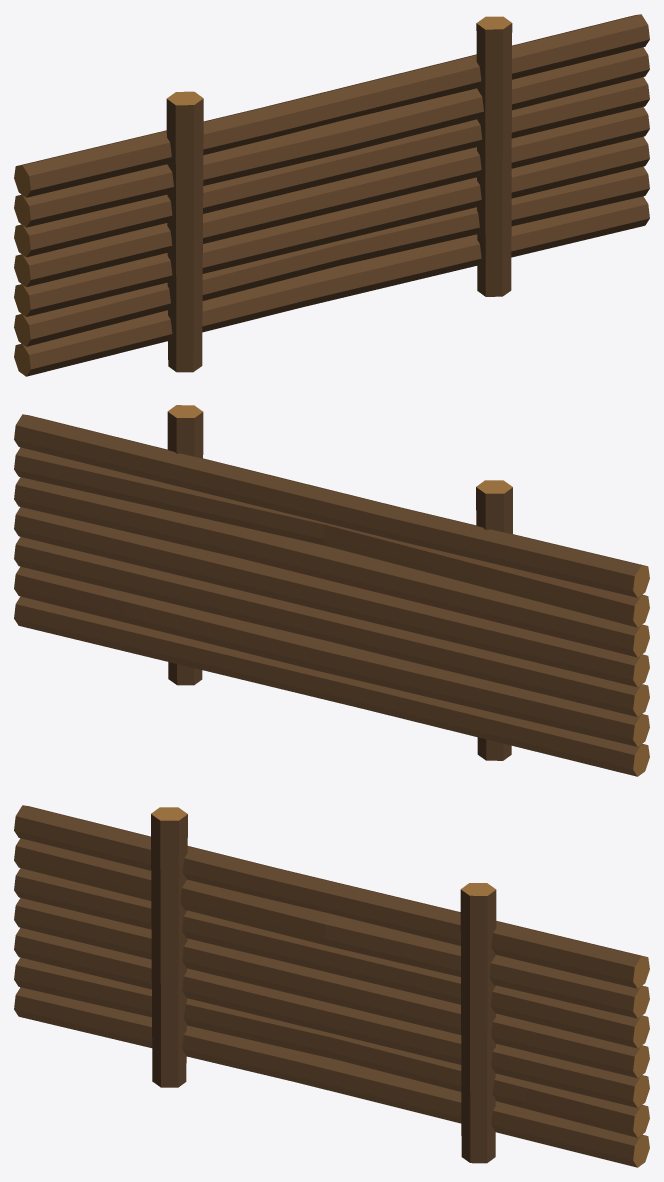
Rendered from ww2_trenches-wood.fbx.
3 renders of one model, top to bottom at view 1: azimuth 30°, elevation 25°; view 2: azimuth 150°, elevation 25°; view 3: azimuth 330°, elevation 25°, orthographic.
Parts seen in each view (by area): view 1: ww2_trenches_wood; view 2: ww2_trenches_wood; view 3: ww2_trenches_wood.
Part boxes in pixels (x1,y1,x2,y2): ww2_trenches_wood: [14, 14, 649, 376]; ww2_trenches_wood: [14, 405, 649, 776]; ww2_trenches_wood: [14, 805, 649, 1167].
Size of the model in its own units: 200 by 82.62 by 16.1.
